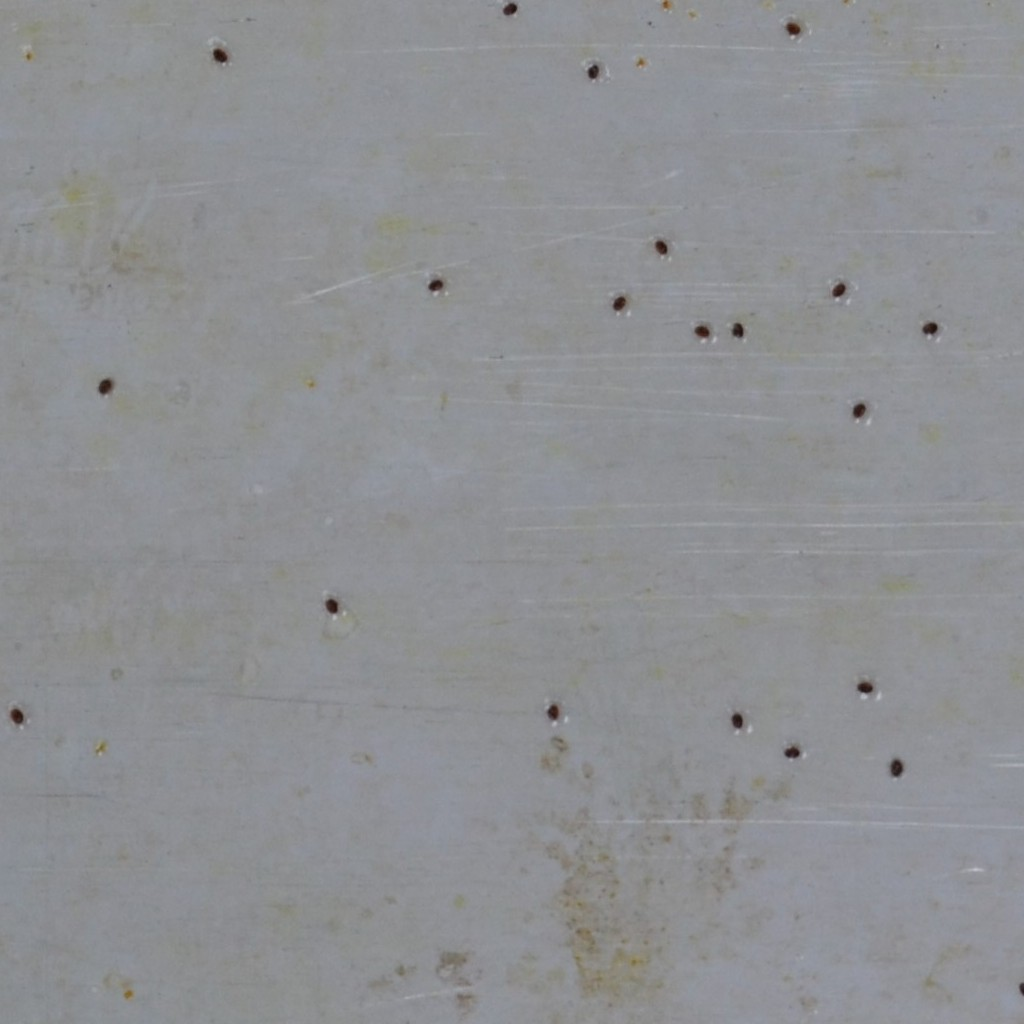varroa: (425, 273, 446, 299), (690, 321, 713, 344), (542, 699, 562, 725), (728, 707, 747, 734), (856, 677, 879, 699), (849, 396, 870, 420), (652, 238, 674, 260), (609, 294, 629, 318), (887, 755, 907, 779), (781, 742, 803, 762), (9, 705, 26, 730), (783, 18, 805, 37), (919, 317, 941, 336), (730, 319, 749, 341), (828, 280, 850, 298), (323, 596, 342, 616), (211, 45, 229, 66), (97, 376, 113, 397), (499, 2, 519, 17), (585, 61, 600, 80)
